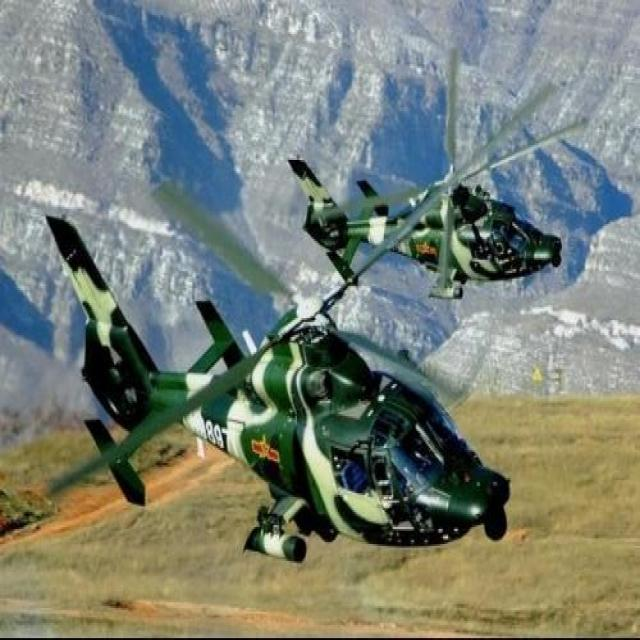MIL_HELO: (37, 158, 540, 564), (296, 48, 596, 318)
